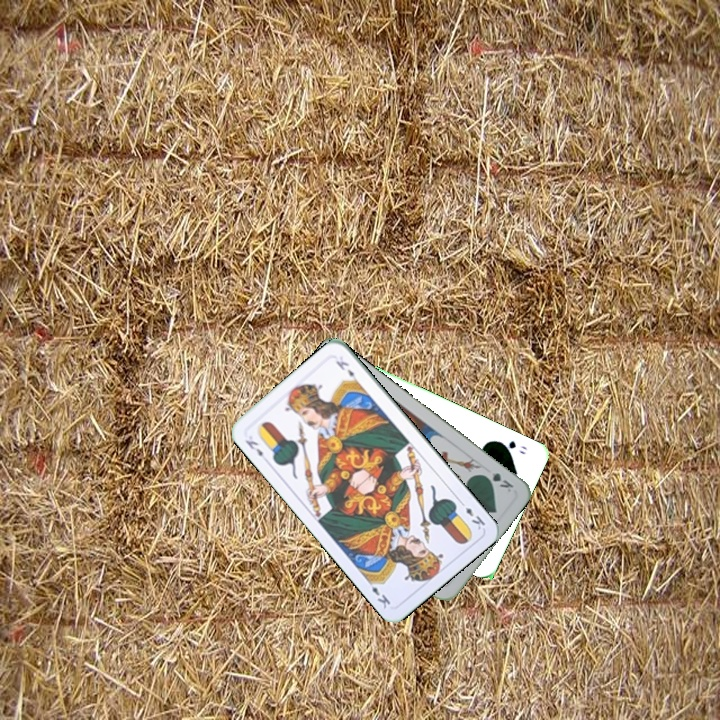EK: (455, 497, 488, 533), (241, 436, 270, 465)
GK: (479, 468, 516, 495)
GO: (494, 436, 529, 457)
